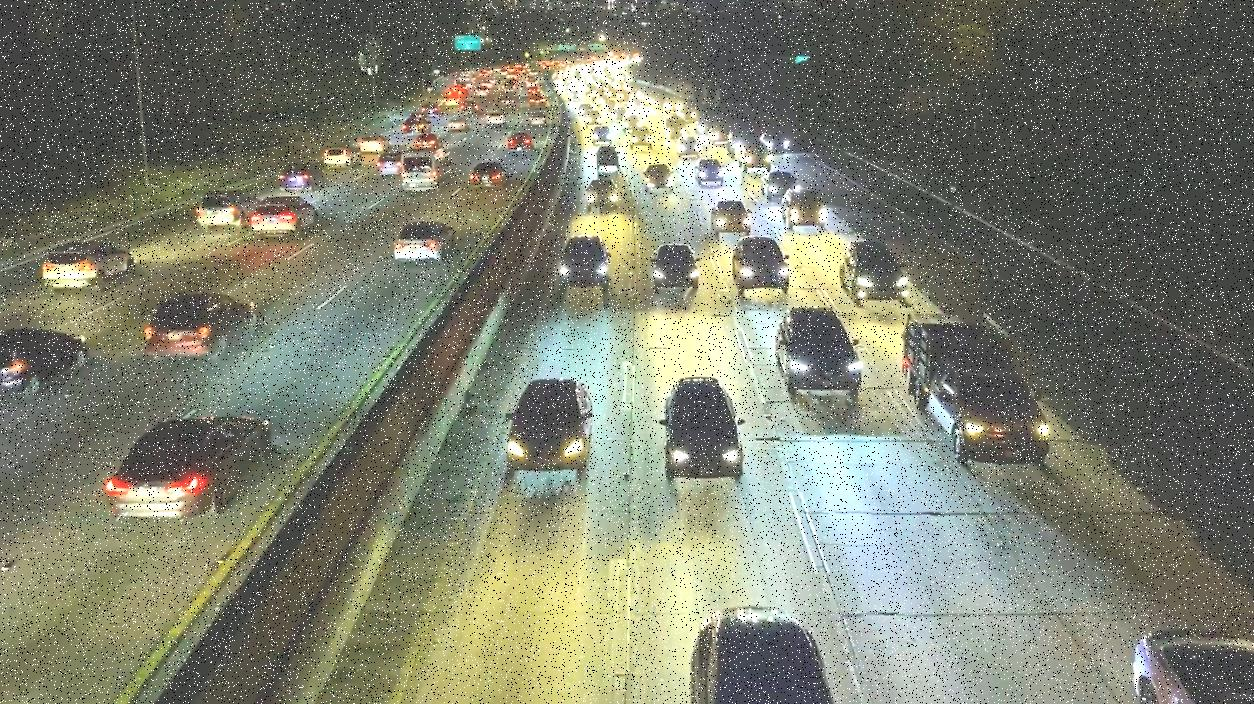car: (97, 409, 274, 525), (671, 595, 850, 704), (500, 378, 600, 481), (1128, 623, 1254, 704), (141, 291, 265, 368), (771, 303, 865, 400), (663, 372, 744, 482), (0, 323, 93, 399), (41, 236, 140, 295), (836, 241, 910, 304), (729, 235, 793, 294), (389, 218, 458, 268), (555, 232, 613, 290), (248, 192, 319, 237), (647, 241, 702, 295), (194, 187, 259, 232), (401, 147, 455, 194), (780, 187, 823, 230), (707, 199, 755, 237), (759, 169, 799, 201), (584, 176, 619, 212), (280, 164, 324, 192), (734, 145, 775, 174), (468, 162, 510, 188), (324, 146, 363, 171), (642, 162, 674, 191), (694, 158, 723, 186), (374, 150, 406, 174), (360, 132, 391, 155), (761, 129, 792, 152), (628, 126, 654, 150), (676, 135, 701, 159), (596, 145, 620, 170), (412, 133, 441, 150), (507, 133, 534, 151), (591, 124, 613, 145), (446, 116, 469, 131), (525, 111, 548, 126), (484, 111, 506, 126)
